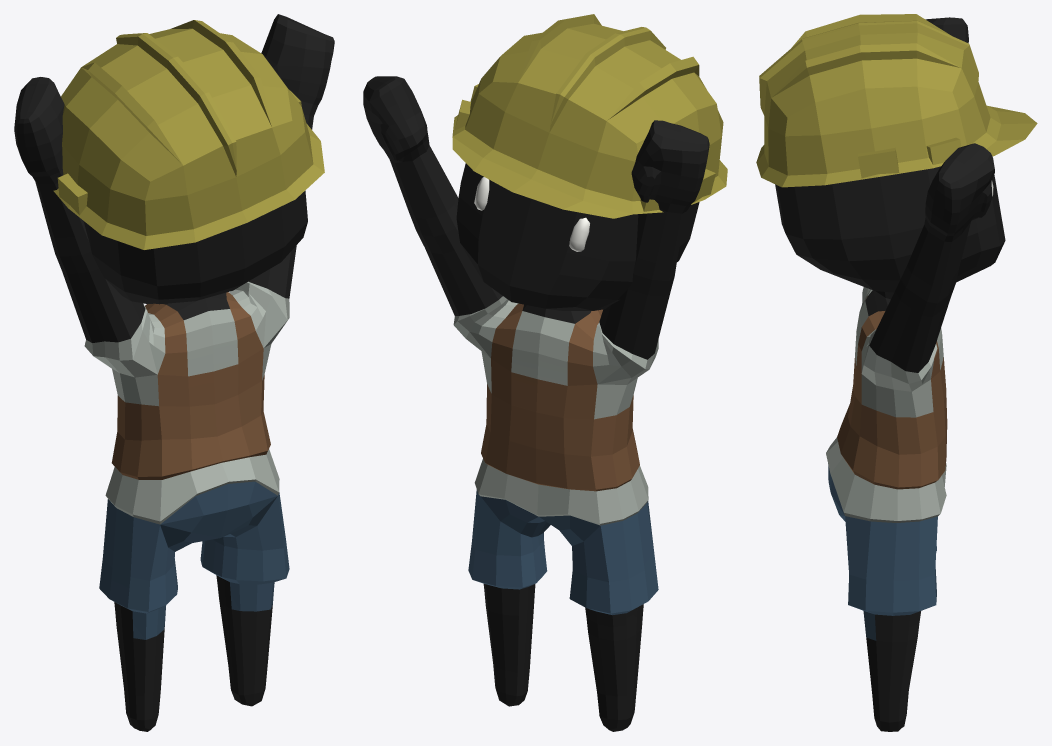
Rendered from Moun_Worker_Male_Cheer.fbx.
3 views of the same model, side by side, from view 1: azimuth 30°, elevation 25°; view 2: azimuth 150°, elevation 25°; view 3: azimuth 270°, elevation 25° (orthographic). The views are drawn at different scales.
Parts seen in each view (by area): view 1: Moun_Worker_Male_Cheer; view 2: Moun_Worker_Male_Cheer; view 3: Moun_Worker_Male_Cheer.
Boxes of the visible parts, x1=… form: Moun_Worker_Male_Cheer: x1=14, y1=14, x2=334, y2=731; Moun_Worker_Male_Cheer: x1=363, y1=14, x2=727, y2=731; Moun_Worker_Male_Cheer: x1=756, y1=14, x2=1037, y2=731.
Bounding box in the file's own units: 0.8707 × 1.73 × 0.6594.
